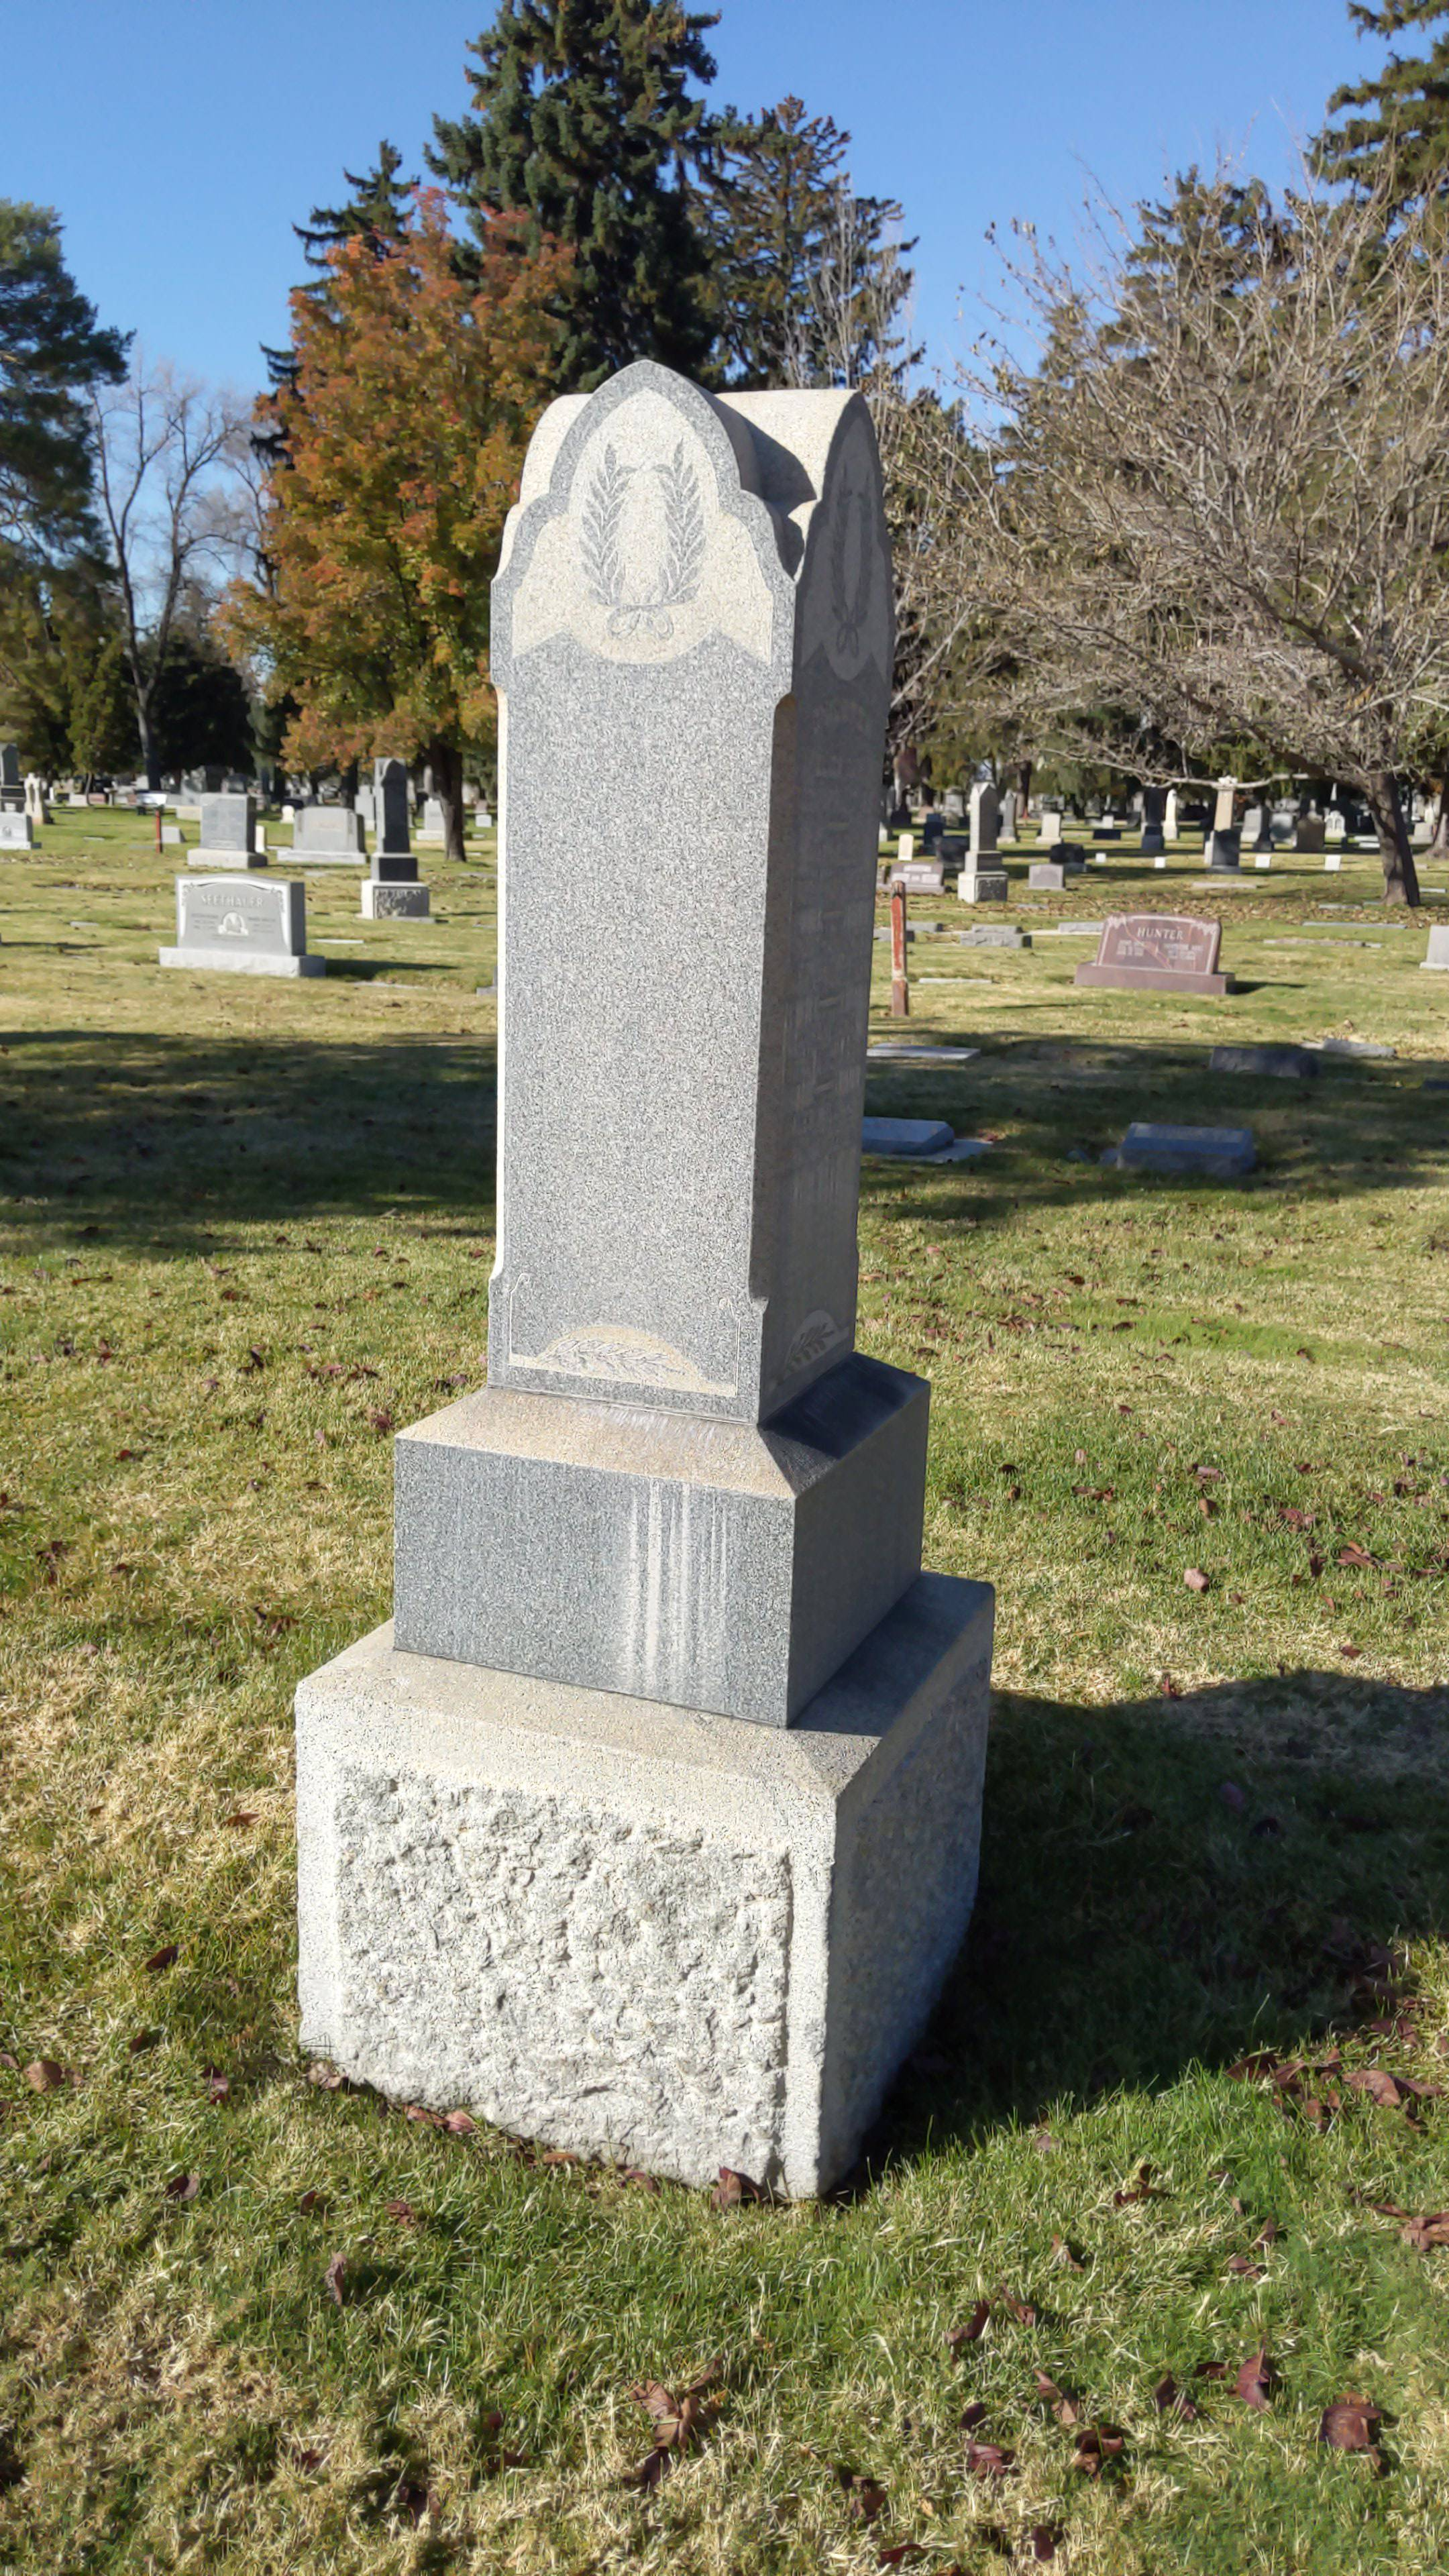obelisk: (391, 380, 936, 1727)
